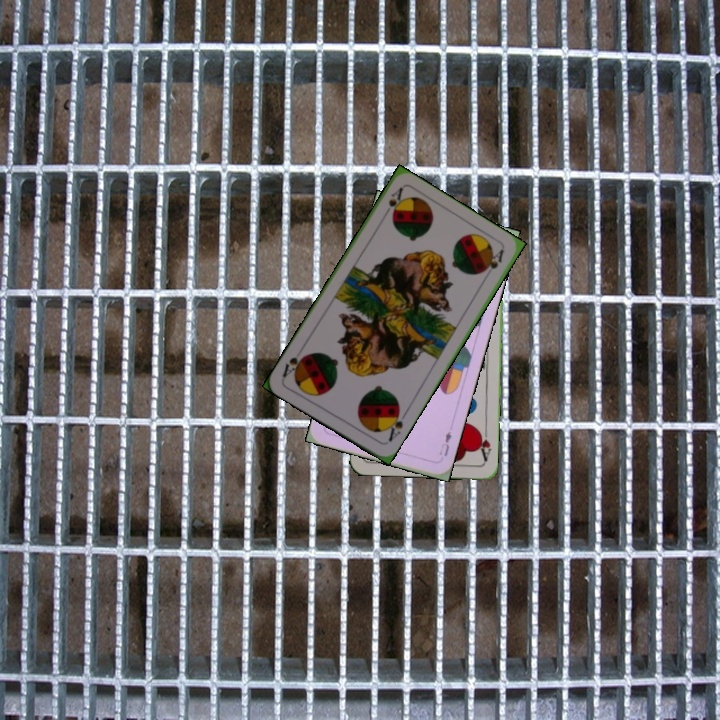EU: (437, 427, 454, 459)
HA: (474, 424, 493, 464)
SA: (382, 405, 409, 444), (379, 184, 405, 221)
